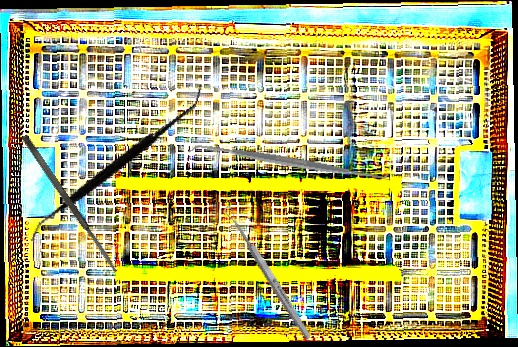Spatula Surgical: (29, 48, 203, 278), (20, 133, 119, 274), (188, 133, 391, 191)
Surgical Spoon: (222, 204, 314, 342)
